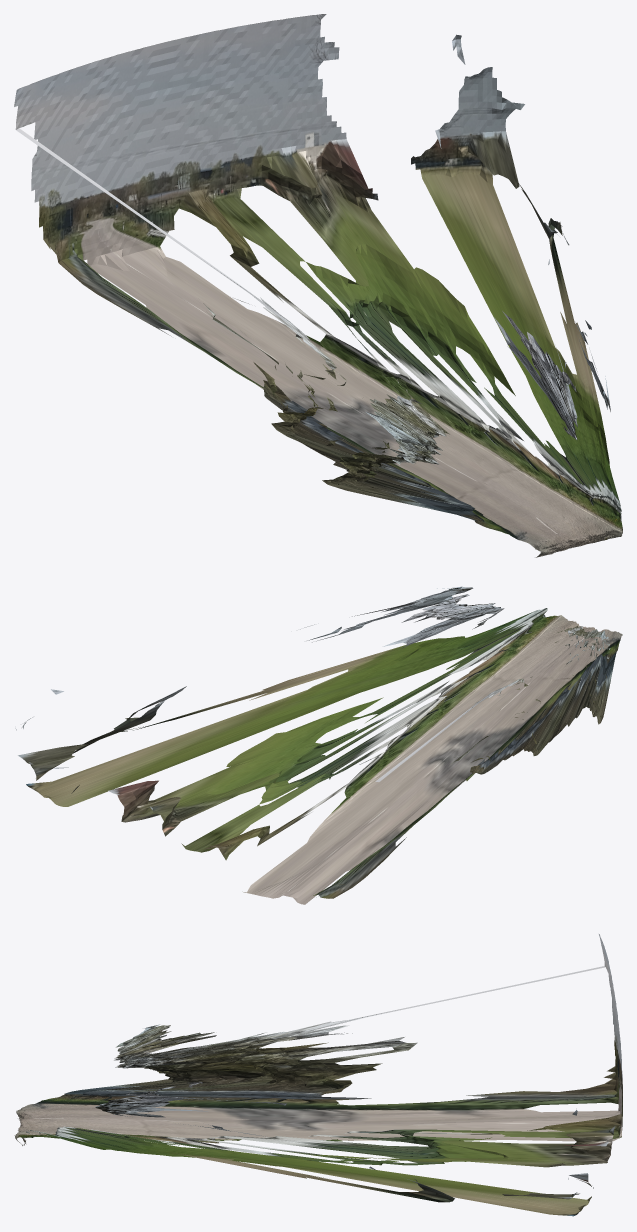
The picture shows the model from 3 angles, top to bottom: view 1: azimuth 30°, elevation 25°; view 2: azimuth 150°, elevation 25°; view 3: azimuth 270°, elevation 25°; orthographic projection. The views are drawn at different scales.
Parts seen in each view (by area): view 1: defaultobject; view 2: defaultobject; view 3: defaultobject.
Boxes of the visible parts, x1,y1,x2,y2 form: defaultobject: (14,14,622,557); defaultobject: (15,586,622,904); defaultobject: (14,934,622,1216).
Size of the model in its own units: 29.02 by 12.44 by 44.47.
Materials: 1 (1 with a texture image).
